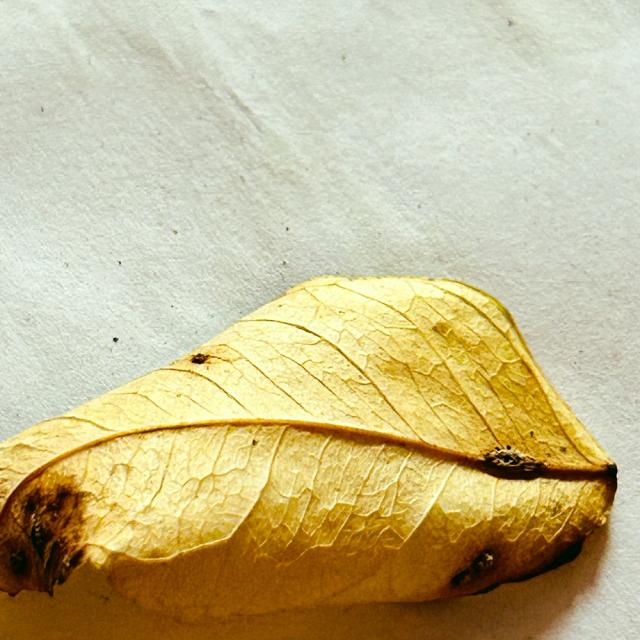DryLeaf_Lemon: (0, 276, 616, 618)
